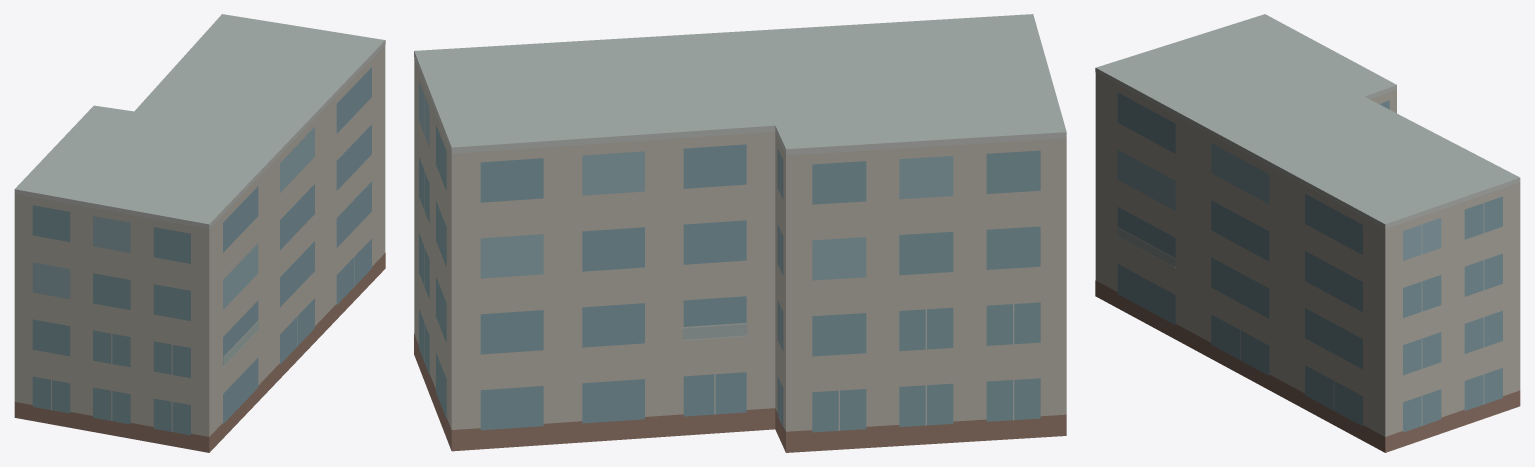
Rendered from survey-upis-32923731.glb.
The picture shows the model from 3 angles, left to right: view 1: azimuth 30°, elevation 25°; view 2: azimuth 150°, elevation 25°; view 3: azimuth 270°, elevation 25°; orthographic projection. The views are drawn at different scales.
Visible parts, largest first — view 1: survey-upis-32923731.tmp; view 2: survey-upis-32923731.tmp; view 3: survey-upis-32923731.tmp.
Part boxes in pixels (x1=…): survey-upis-32923731.tmp: x1=14, y1=14, x2=385, y2=452; survey-upis-32923731.tmp: x1=414, y1=14, x2=1066, y2=452; survey-upis-32923731.tmp: x1=1095, y1=14, x2=1520, y2=452.
Bounding box in the file's own units: 23.69 × 12 × 20.22.
